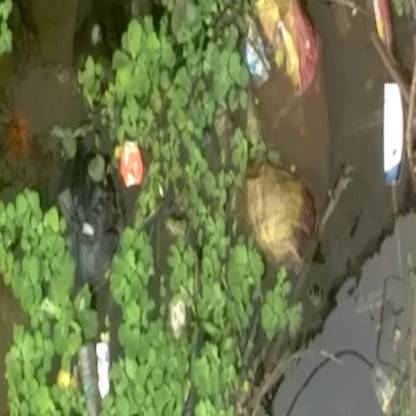bottle: (377, 83, 408, 193)
plastic-bag: (236, 155, 329, 276)
